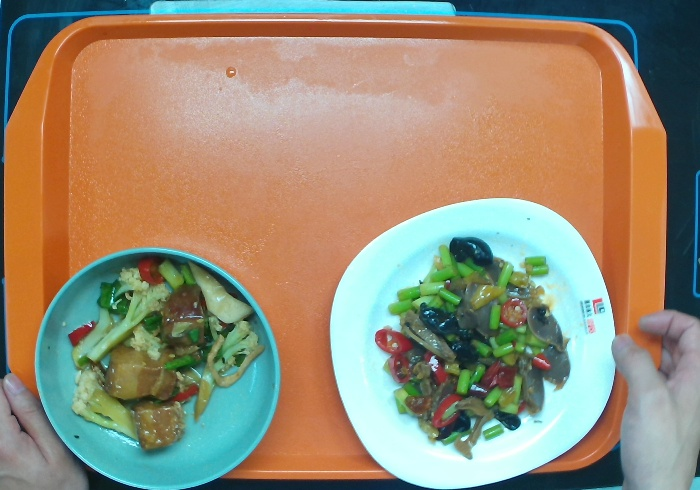ZNLD-Qing_Hua_Yuan_Wan: (19, 219, 283, 490)
ZNLD-Yuan_Jiao_Pan: (315, 184, 623, 490)
